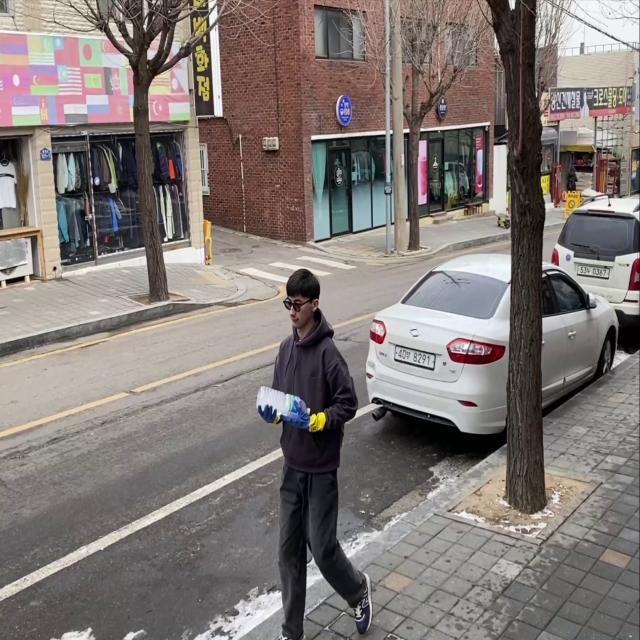gloved_hand: (280, 400, 311, 434), (254, 399, 278, 427)
